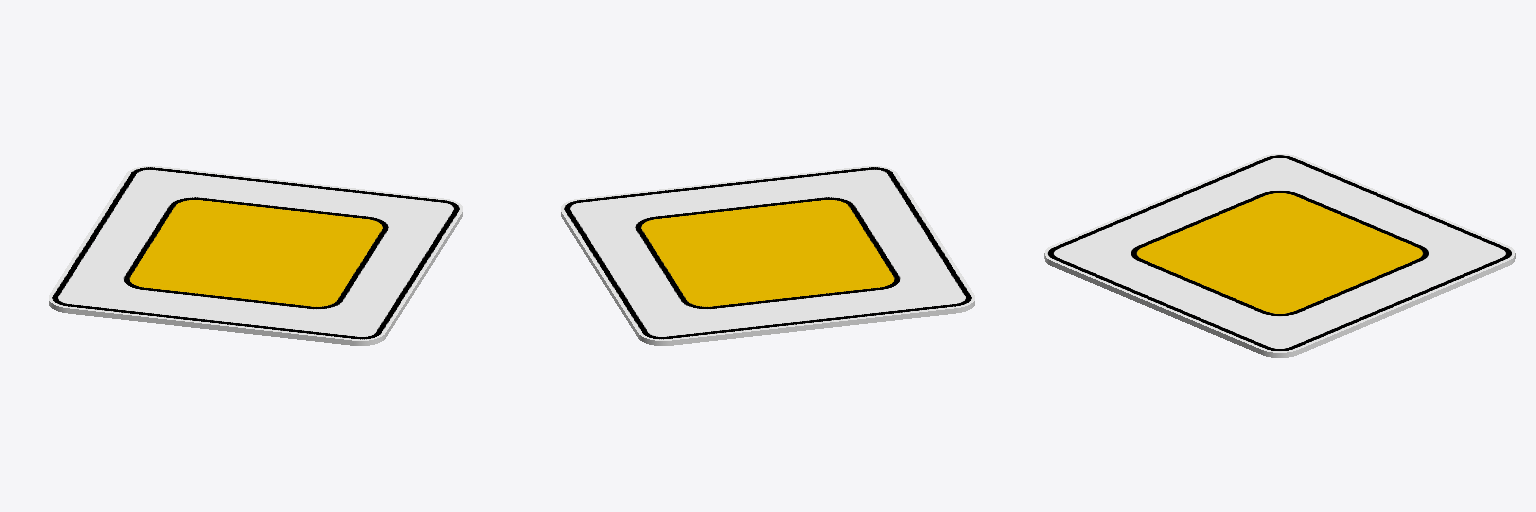
3 renders of one model, left to right at view 1: azimuth 30°, elevation 25°; view 2: azimuth 150°, elevation 25°; view 3: azimuth 270°, elevation 25°, orthographic.
Visible parts, largest first — view 1: znak_SOK.1; view 2: znak_SOK.1; view 3: znak_SOK.1.
Part boxes in pixels (x1,y1,x2,y2): znak_SOK.1: (49, 166, 462, 345); znak_SOK.1: (561, 166, 974, 345); znak_SOK.1: (1044, 154, 1515, 357).
Size of the model in its own units: 811 by 10 by 811.
Materials: 1 (1 with a texture image).